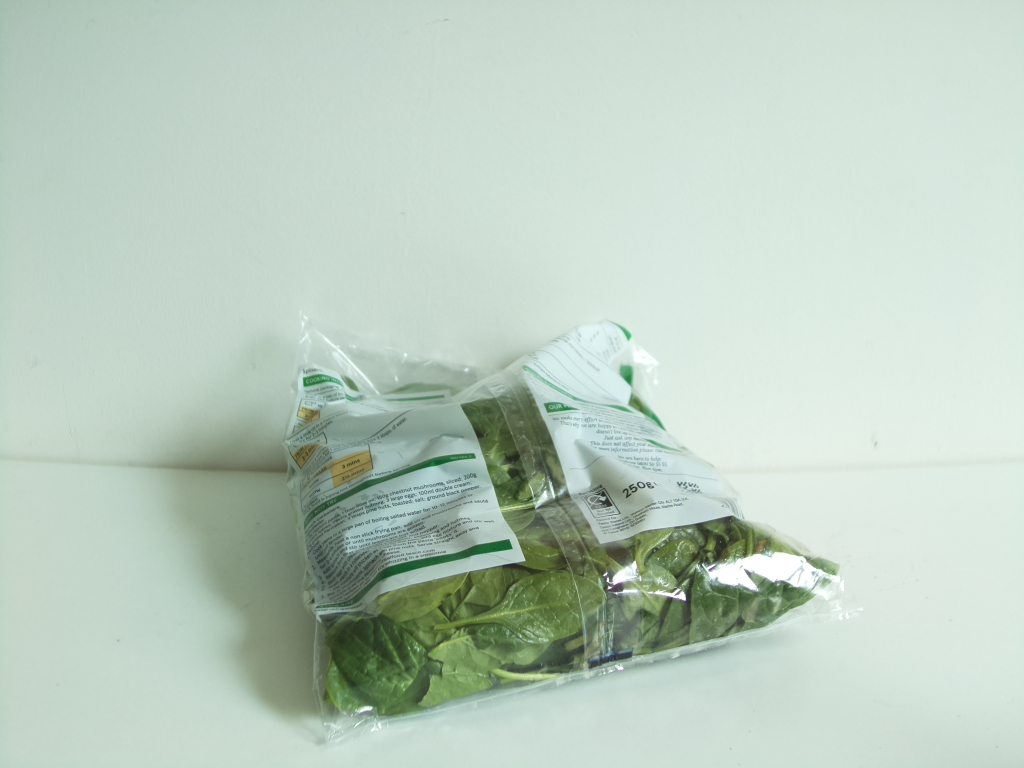salad: (289, 387, 838, 721)
